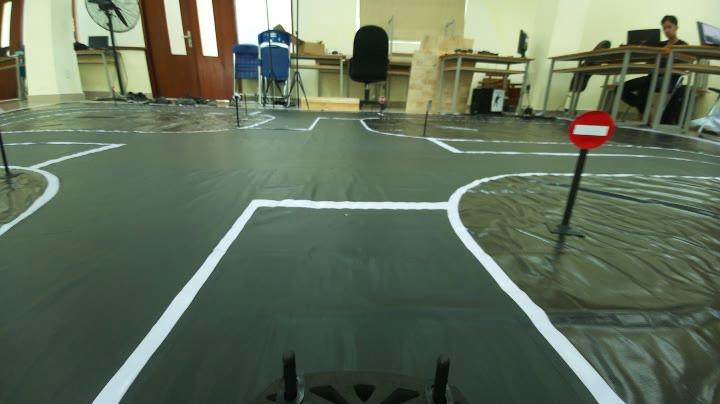no_entry: (564, 108, 618, 156)
